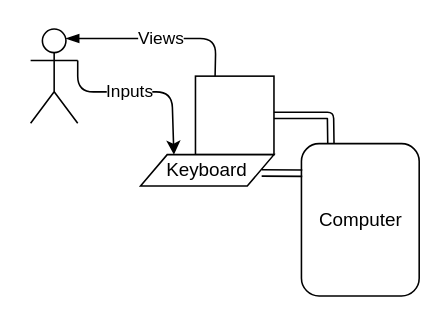
This 447x323 diagram has some shape labels left out. The centre of each missing label's shape, as x and y in pixels:
"Game Screen" belongs at (x=234, y=115).
"Player" belongs at (x=53, y=75).
